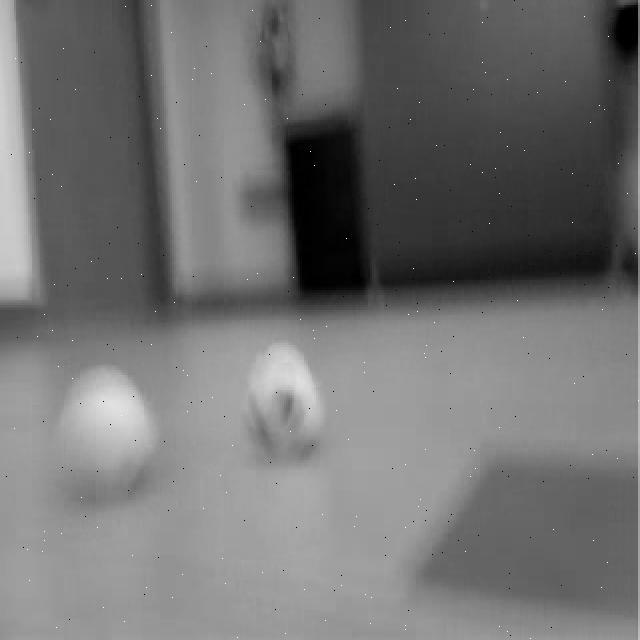ping-pong-ball: (60, 363, 157, 503), (239, 342, 322, 458)
